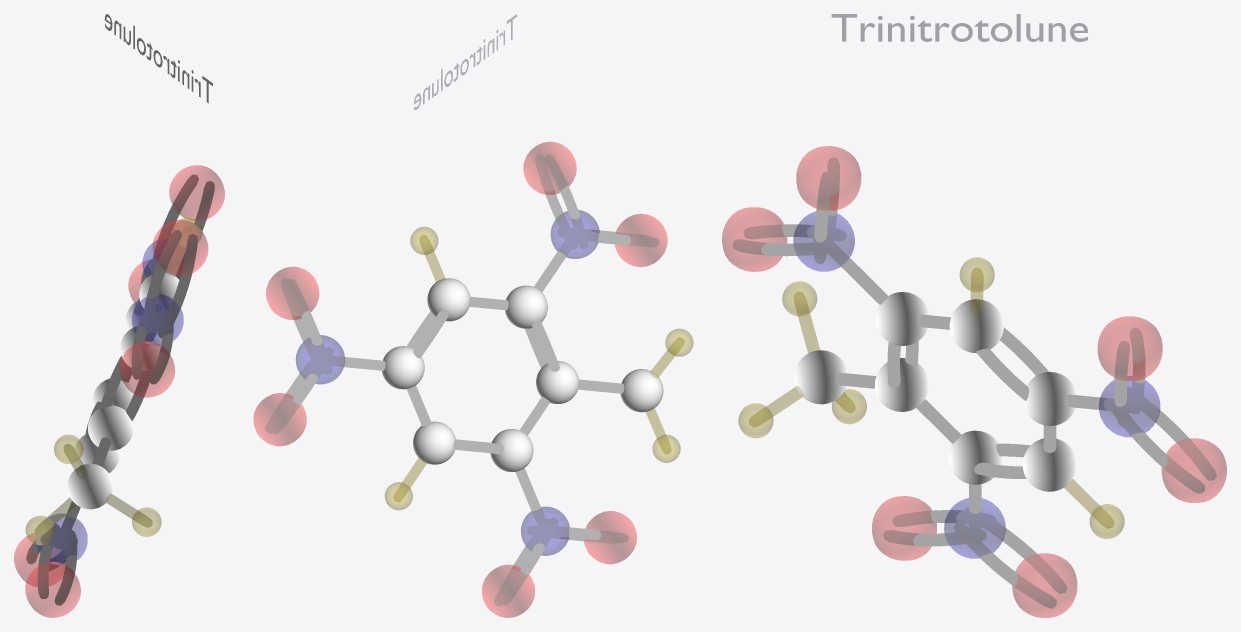
The model's file is trinitrotolune.glb.
3 renders of one model, left to right at view 1: azimuth 30°, elevation 25°; view 2: azimuth 150°, elevation 25°; view 3: azimuth 270°, elevation 25°, orthographic. The views are drawn at different scales.
Parts seen in each view (by area): view 1: oxy_002, oxy_006, oxy_005, oxy_004, double_link_08, nitro_03, carbon_07, double_link_05, nitro_02, carbon_06, double_link_09, double_link_07 (+20 smaller); view 2: oxy_005, oxy_001, oxy_003, oxy_004, oxy_006, oxy_002, double_link_08, nitro_03, nitro_02, nitro_01, double_link_05, double_link_04 (+20 smaller); view 3: oxy_005, oxy_004, oxy_003, oxy_001, oxy_002, oxy_006, double_link_04, double_link_06, nitro_02, nitro_03, nitro_01, double_link_07 (+25 smaller).
Boxes of the visible parts, box(x1,y1,x2,y2) form: oxy_002: box(25, 562, 80, 617); oxy_006: box(119, 341, 174, 397); oxy_005: box(153, 220, 207, 275); oxy_004: box(169, 165, 224, 220); double_link_08: box(143, 230, 197, 338); nitro_03: box(132, 294, 183, 345); carbon_07: box(67, 463, 112, 509); double_link_05: box(151, 174, 214, 277); nitro_02: box(36, 514, 87, 565); carbon_06: box(88, 405, 133, 450); double_link_09: box(131, 308, 173, 384); double_link_07: box(37, 524, 77, 605); oxy_005: box(523, 142, 576, 194); oxy_001: box(482, 565, 534, 617); oxy_003: box(253, 393, 306, 445); oxy_004: box(266, 267, 318, 319); oxy_006: box(615, 214, 667, 266); oxy_002: box(584, 511, 636, 563); double_link_08: box(535, 154, 587, 249); nitro_03: box(551, 210, 599, 258); nitro_02: box(521, 507, 569, 555); nitro_01: box(296, 335, 344, 384); double_link_05: box(280, 278, 332, 374); double_link_04: box(265, 347, 333, 434); oxy_005: box(796, 146, 860, 210); oxy_004: box(1098, 316, 1162, 380); oxy_003: box(1162, 438, 1226, 502); oxy_001: box(1012, 553, 1076, 617); oxy_002: box(872, 496, 936, 560); oxy_006: box(722, 207, 786, 271); double_link_04: box(1108, 386, 1216, 493); double_link_06: box(954, 507, 1067, 608); nitro_02: box(944, 498, 1005, 558); nitro_03: box(793, 211, 854, 271); nitro_01: box(1099, 376, 1159, 436); double_link_07: box(883, 510, 996, 546).
Bounding box in the file's own units: 9.57 × 16.04 × 11.32.
